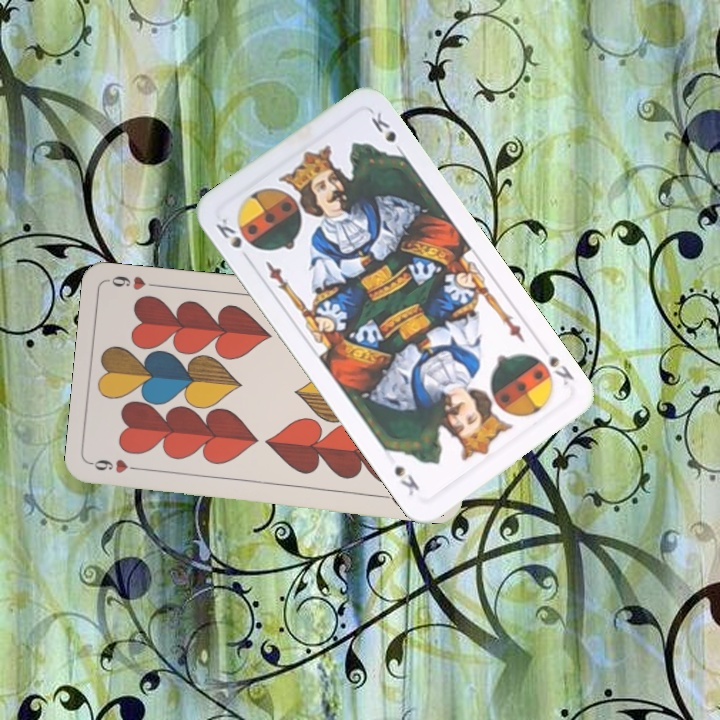H9: (89, 455, 148, 476)
SK: (211, 214, 257, 265), (545, 351, 577, 389)
